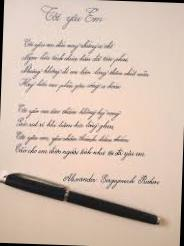text: (14, 142, 146, 164), (20, 63, 152, 84), (20, 48, 130, 70), (14, 130, 132, 150), (16, 102, 122, 124), (18, 76, 124, 97), (62, 171, 162, 191), (40, 2, 105, 32), (15, 116, 116, 135), (23, 36, 116, 56)
